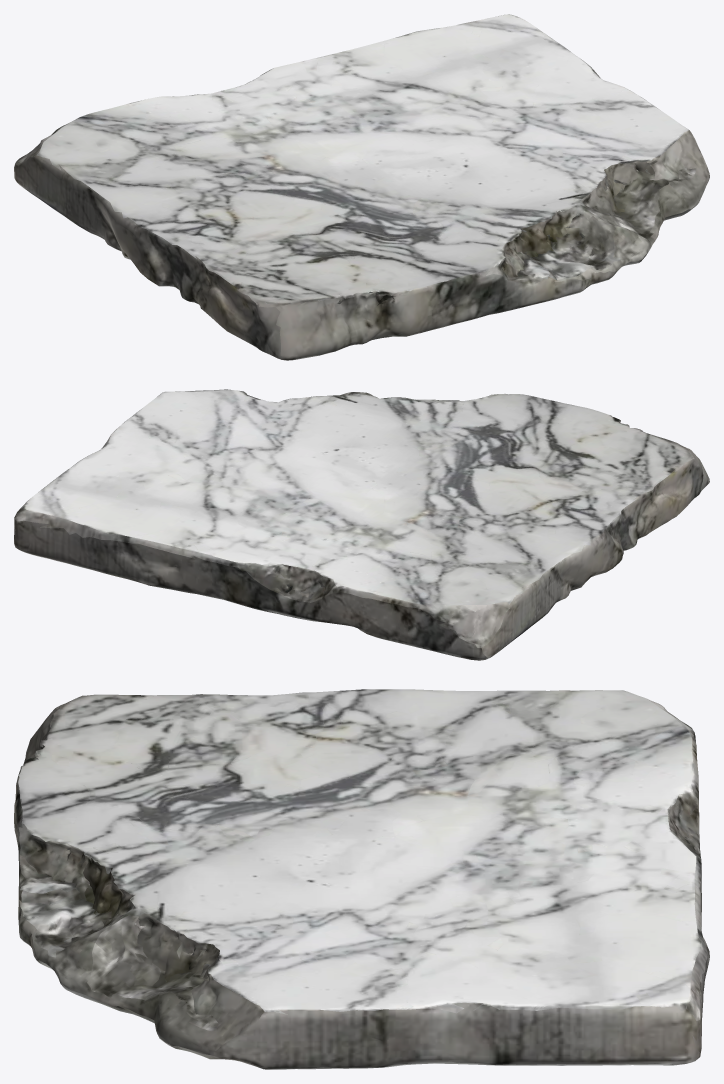
File: remnant-a.glb
3 renders of one model, top to bottom at view 1: azimuth 30°, elevation 25°; view 2: azimuth 150°, elevation 25°; view 3: azimuth 270°, elevation 25°, orthographic. The views are drawn at different scales.
Visible parts, largest first — view 1: geometry_0; view 2: geometry_0; view 3: geometry_0.
Part boxes in pixels (<box>): geometry_0: <box>14,14,709,360</box>; geometry_0: <box>14,389,709,660</box>; geometry_0: <box>14,689,709,1069</box>.
Size of the model in its own units: 0.35 by 0.0314 by 0.3163.
1 material, 1 textured.
